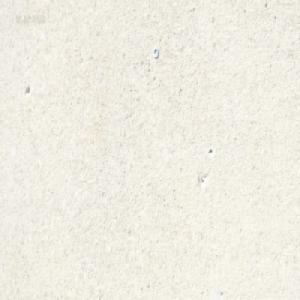Washer: (152, 46, 158, 58)
